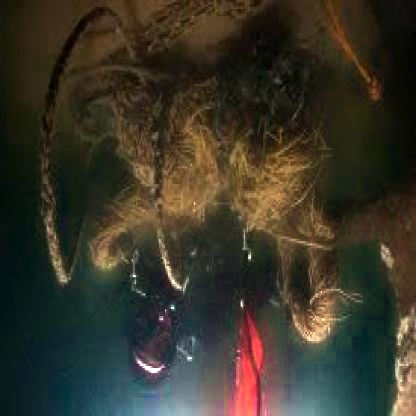net: (39, 7, 348, 345)
